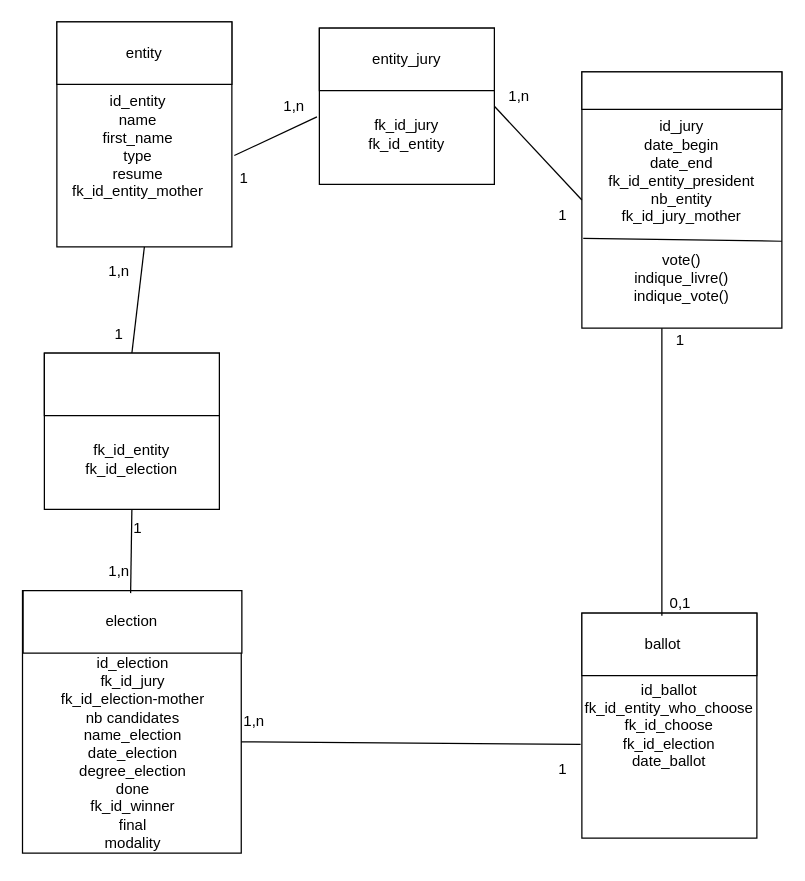
Some shapes in this 805 by 881 pixel diagram are drawn without their labels. The centre of each missing label's shape, as x and y in pixels:
entity_election: pixel 131 384
jury: pixel 681 90
